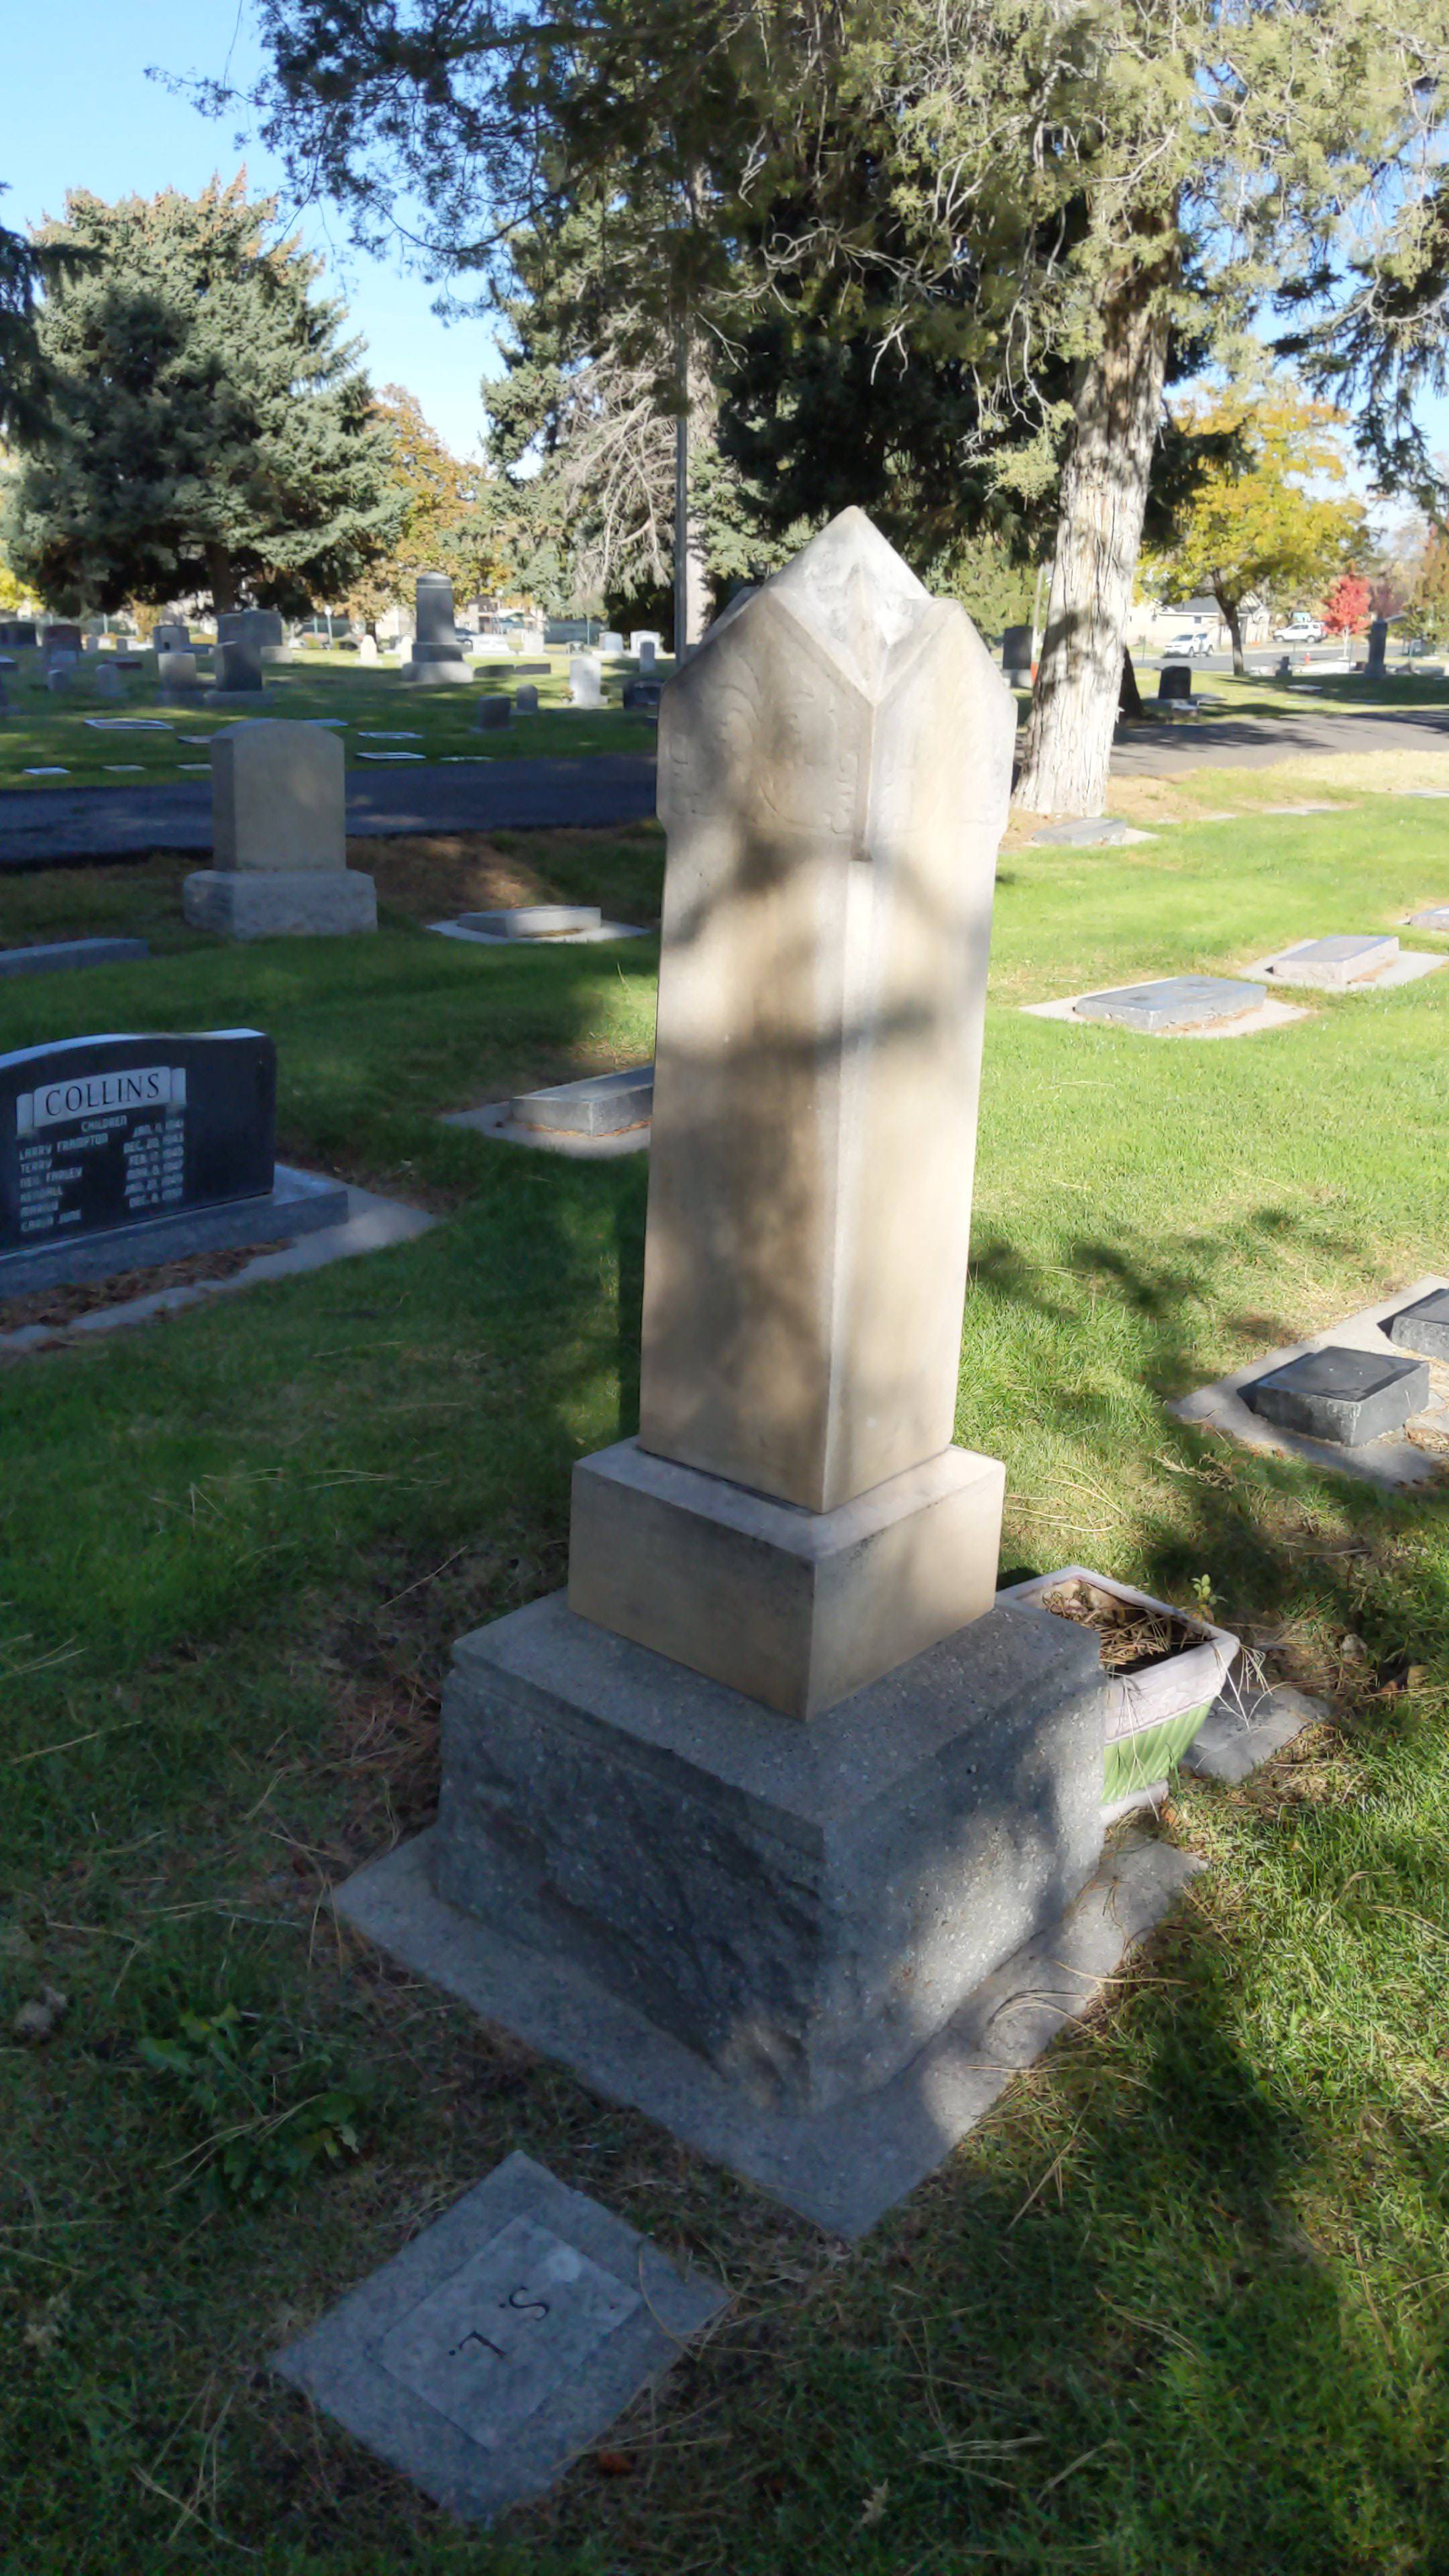obelisk: (570, 495, 1005, 1713)
